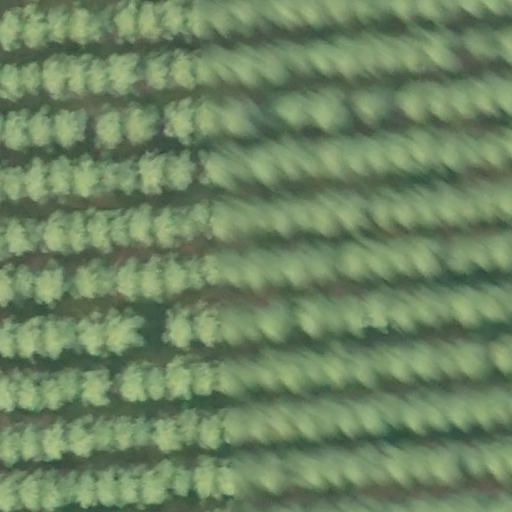eucalipto: (30, 259, 72, 310), (105, 308, 149, 356), (106, 51, 148, 101), (42, 315, 82, 360), (64, 414, 98, 463), (92, 105, 126, 153), (113, 253, 144, 302), (72, 154, 102, 199), (23, 156, 51, 204)
